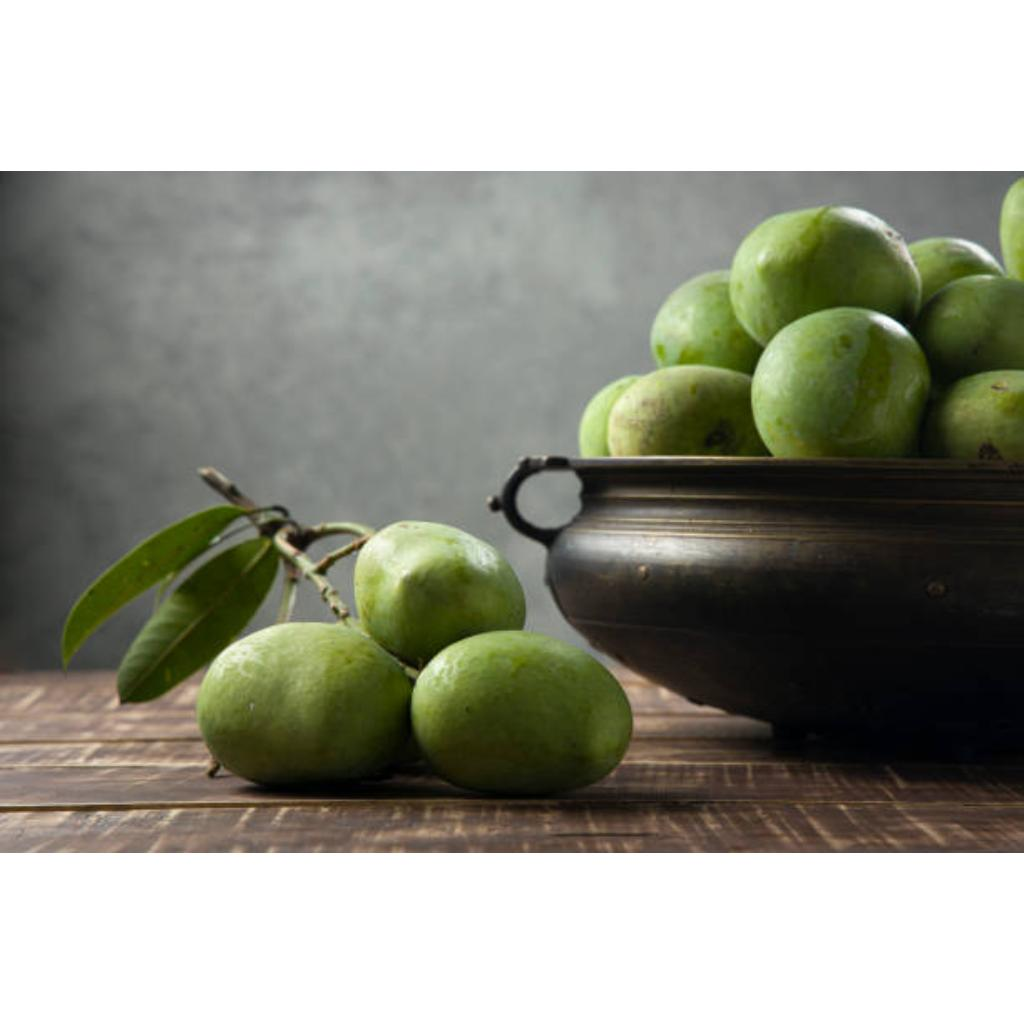mango: (412, 631, 632, 794), (198, 623, 412, 787), (750, 307, 930, 457), (730, 207, 922, 345), (354, 521, 526, 666), (608, 365, 768, 457), (914, 277, 1024, 384), (650, 270, 762, 374), (924, 371, 1024, 460)
